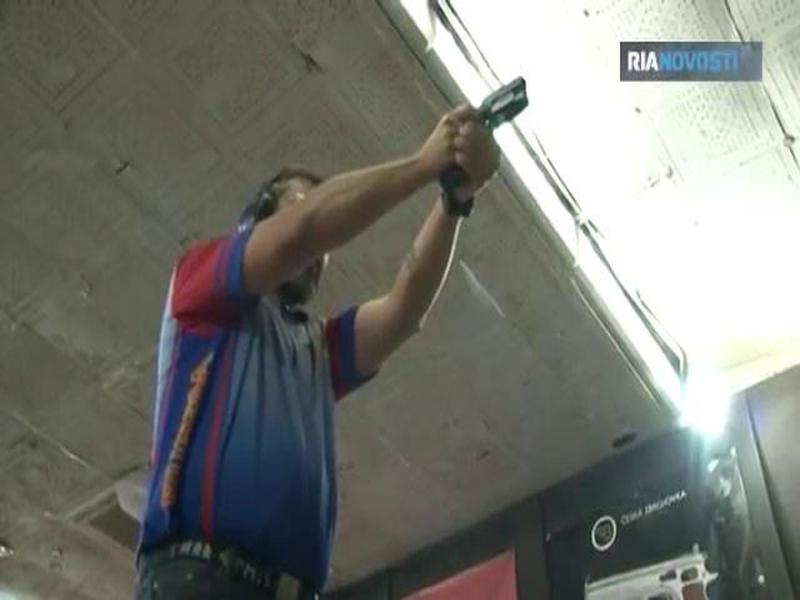Pistola: (411, 71, 546, 221)
